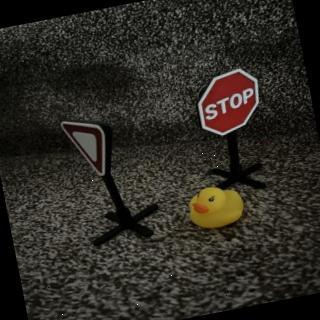duck_regular: (186, 182, 249, 234)
sign_stop: (192, 66, 269, 141)
sign_yield: (61, 114, 121, 184)
